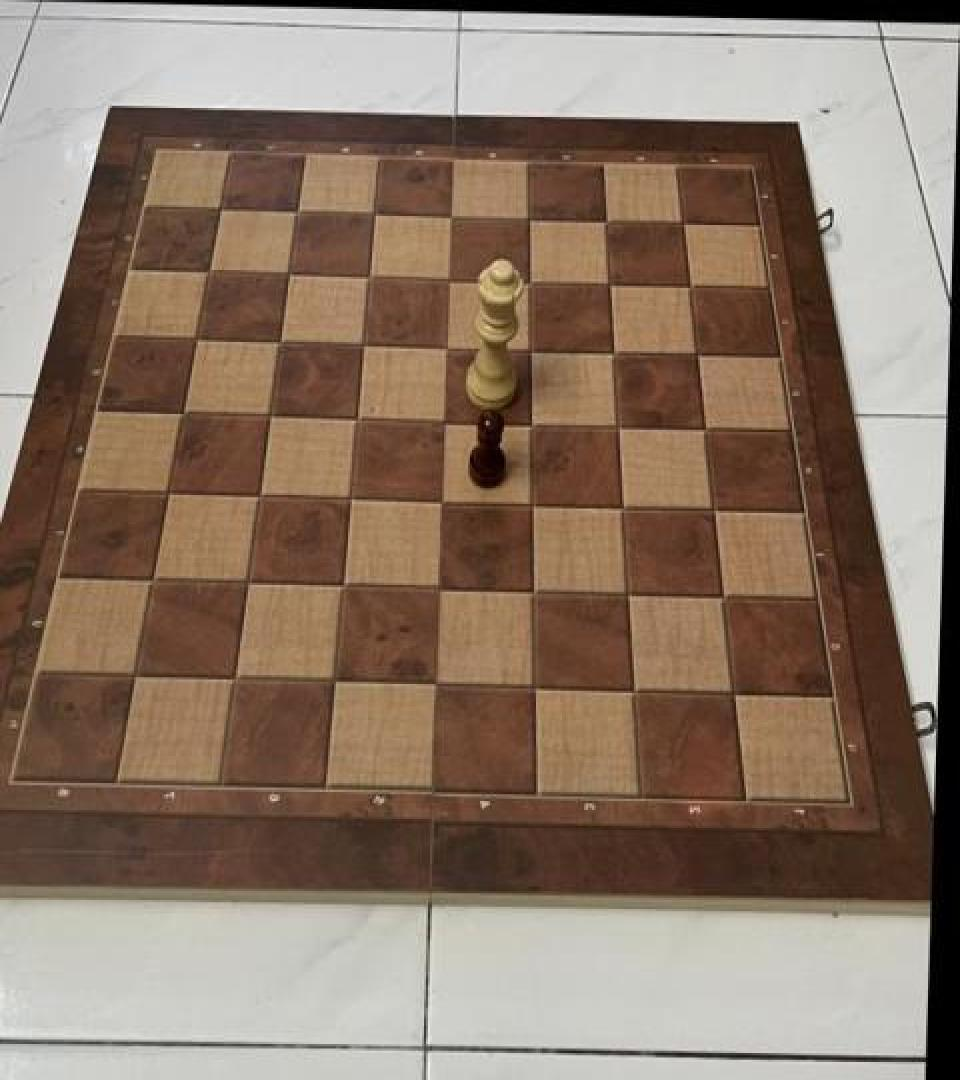xcorner: (357, 191, 393, 232), (434, 192, 470, 233), (667, 199, 703, 240), (352, 254, 388, 295), (432, 255, 468, 296), (674, 262, 710, 303), (179, 317, 215, 358), (513, 326, 549, 367), (166, 390, 202, 431), (427, 398, 463, 439), (151, 471, 187, 512), (424, 478, 460, 519), (515, 480, 551, 521), (231, 561, 267, 602), (516, 569, 552, 610), (317, 659, 353, 700), (617, 668, 653, 709), (203, 187, 239, 227), (280, 189, 316, 229), (512, 195, 548, 235), (589, 197, 625, 237), (191, 250, 227, 290), (271, 252, 307, 292), (512, 258, 548, 298), (593, 260, 629, 300), (262, 320, 298, 360), (346, 322, 382, 362), (430, 324, 466, 364), (597, 329, 633, 369), (681, 331, 717, 371), (253, 394, 289, 434), (340, 396, 376, 436), (514, 401, 550, 441), (601, 403, 637, 443), (689, 405, 725, 445), (242, 474, 278, 514), (333, 476, 369, 516), (606, 484, 642, 524), (698, 486, 734, 526), (136, 558, 172, 598), (326, 564, 362, 604), (421, 566, 457, 606), (612, 572, 648, 612), (707, 574, 743, 614), (118, 654, 154, 694), (218, 657, 254, 697), (417, 663, 453, 703), (517, 666, 553, 706), (718, 672, 754, 712)
